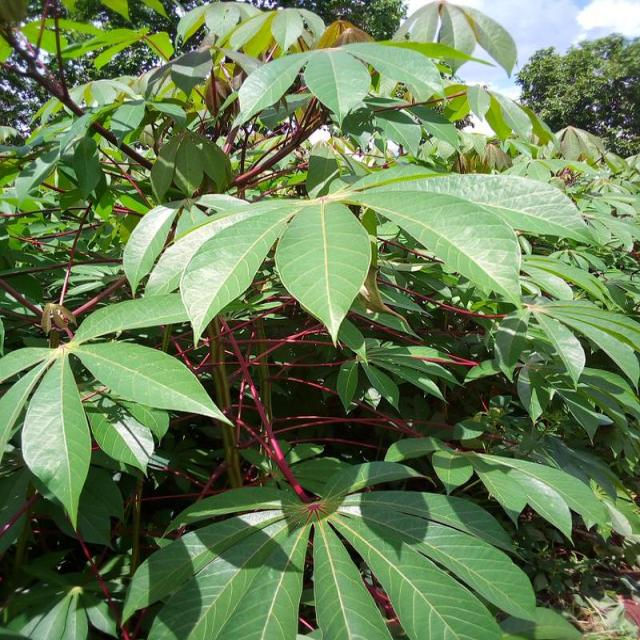cassava leaf: (1, 1, 637, 638), (274, 198, 371, 348), (20, 346, 91, 532)
